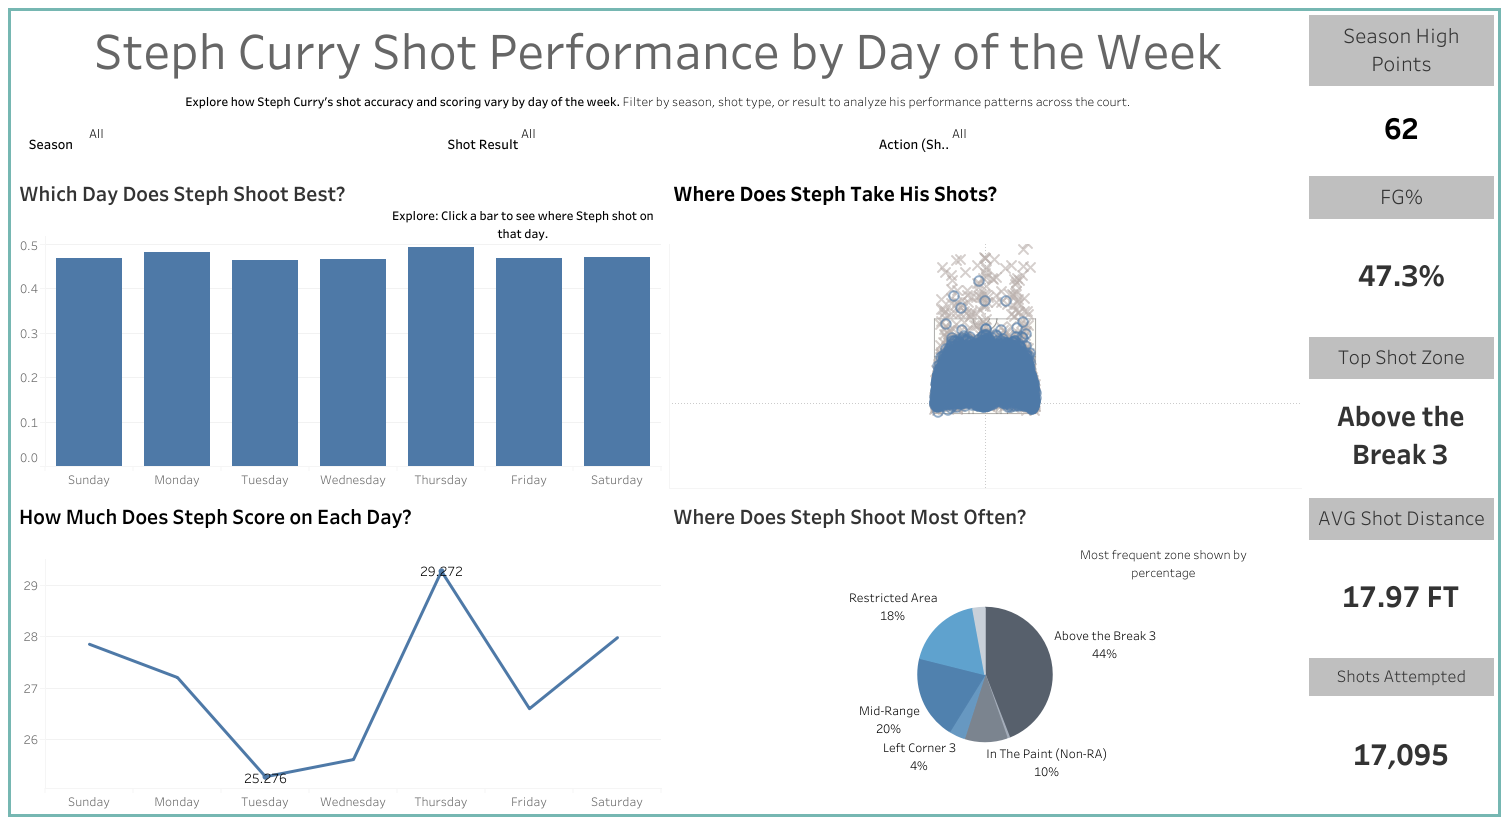

This screenshot's page, from the dashboard's own definition file:
{"tool":"tableau","page":{"name":"Dashboard 3","canvas":[1000,1000],"units":"permille","ordinal":2},"visuals":[{"type":"text","box":[8.3,13.5,855.8,94.4]},{"type":"worksheet","title":"Max Points (Season High) -SC","mark":"Automatic","box":[864.2,13.6,127.5,194.6]},{"type":"text","box":[8.3,107.9,855.8,39.4]},{"type":"filter","title":"Shot Chart","param":"[federated.1gtwu6l0qa1w5712cqlhl1obz9r1].[none:Calculation_1756614981110448132:n","box":[8.3,147.8,285.8,57.9]},{"type":"filter","title":"Shot Chart","param":"[federated.1gtwu6l0qa1w5712cqlhl1obz9r1].[none:Calculation_1756614981109714944:n","box":[294.1,147.8,285.1,57.9]},{"type":"filter","title":"Shot Chart","param":"[federated.1gtwu6l0qa1w5712cqlhl1obz9r1].[Action (Shot Zone Basic)]","box":[579.2,147.8,285.1,57.9]},{"type":"worksheet","title":"FG% by Day of Week","mark":"Automatic","rows":["SHOT_MADE_FLAG"],"cols":["DAY_OF_WEEK"],"box":[8.3,205.2,432.7,390.6]},{"type":"worksheet","title":"Shot Chart","mark":"Shape","rows":["LOC_Y"],"cols":["Calculation_1756614981122850821"],"box":[441.2,205.7,423.1,390.4]},{"type":"worksheet","title":"FG% on Filter -SC","mark":"Automatic","box":[864.2,208.1,127.5,194.6]},{"type":"text","box":[251.9,243.8,189.3,55.4]},{"type":"worksheet","title":"Most Common Shot Zone - SC","mark":"Automatic","rows":["SHOT_ZONE_BASIC"],"box":[864.2,402.7,127.5,194.6]},{"type":"worksheet","title":"AVG PTS byDOW","mark":"Automatic","rows":["PTS"],"cols":["GAME_DATE"],"box":[8.3,595.8,432.7,390.6]},{"type":"worksheet","title":"Shot Zone Pie Chart","mark":"Pie","box":[441.2,596.1,423.1,390.4]},{"type":"worksheet","title":"AVG Shot Distance - SC","mark":"Automatic","box":[864.2,597.3,127.5,194.6]},{"type":"text","box":[700.6,655.2,141,53]},{"type":"worksheet","title":"Shots Attempted - SC","mark":"Automatic","box":[864.2,791.9,127.5,194.6]}]}

Visuals, with their boxes on the dashboard's canvas, which has no fixed pixel size, in thousandths of its width and height (x1, y1, x2, y2). These are canvas units, not pixel positions in the 1508x824 screenshot, which may show the page scaled, cropped or inside an application window:
text: 8 14 864 108
"Max Points (Season High) -SC" worksheet: 864 14 992 208
text: 8 108 864 147
"Shot Chart" filter: 8 148 294 206
"Shot Chart" filter: 294 148 579 206
"Shot Chart" filter: 579 148 864 206
"FG% by Day of Week" worksheet: 8 205 441 596
"Shot Chart" worksheet (Shape marks): 441 206 864 596
"FG% on Filter -SC" worksheet: 864 208 992 403
text: 252 244 441 299
"Most Common Shot Zone - SC" worksheet: 864 403 992 597
"AVG PTS byDOW" worksheet: 8 596 441 986
"Shot Zone Pie Chart" worksheet (Pie marks): 441 596 864 986
"AVG Shot Distance - SC" worksheet: 864 597 992 792
text: 701 655 842 708
"Shots Attempted - SC" worksheet: 864 792 992 986
